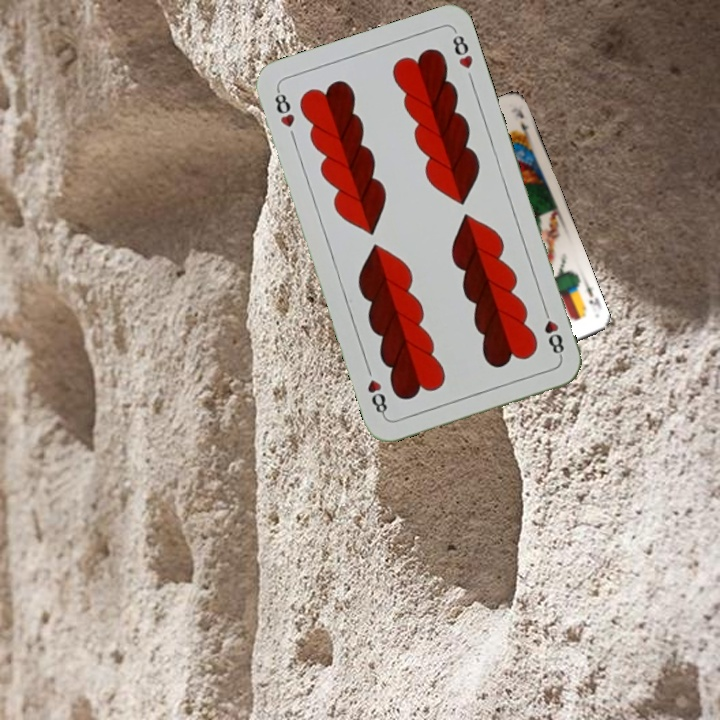EK: (581, 280, 603, 312)
H8: (539, 303, 567, 361), (270, 85, 298, 130)
